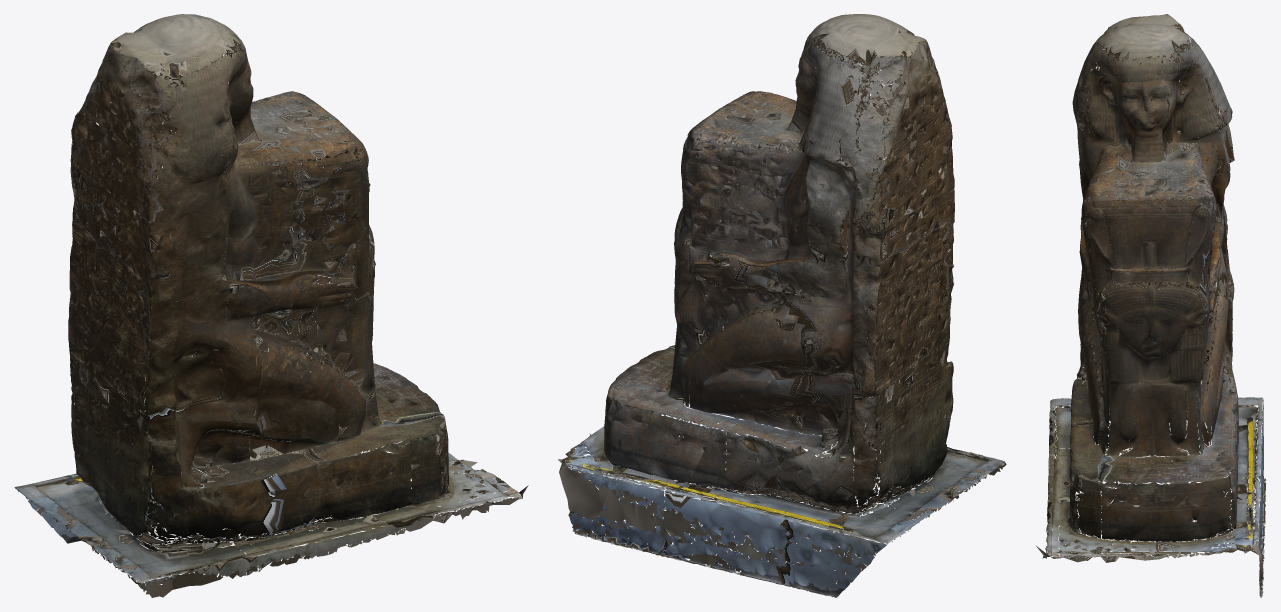
Rendered from estatua-senenmut.glb.
3 views of the same model, side by side, from view 1: azimuth 30°, elevation 25°; view 2: azimuth 150°, elevation 25°; view 3: azimuth 270°, elevation 25° (orthographic). The views are drawn at different scales.
Visible parts, largest first — view 1: Object_2, Object_19, Object_33, Object_42; view 2: Object_19, Object_2, Object_33, Object_42; view 3: Object_33, Object_2, Object_19, Object_42.
Boxes of the visible parts, <box> form: Object_2: <box>17,14,515,591</box>; Object_19: <box>25,44,528,597</box>; Object_33: <box>14,38,447,544</box>; Object_42: <box>15,80,520,582</box>; Object_19: <box>558,35,1005,590</box>; Object_2: <box>566,14,1006,565</box>; Object_33: <box>569,26,954,597</box>; Object_42: <box>571,56,1005,544</box>; Object_33: <box>1070,56,1266,597</box>; Object_2: <box>1047,14,1262,596</box>; Object_19: <box>1036,25,1263,596</box>; Object_42: <box>1045,67,1263,556</box>.
Size of the model in its own units: 21.98 by 30.84 by 13.76.
4 materials, 4 textured.
